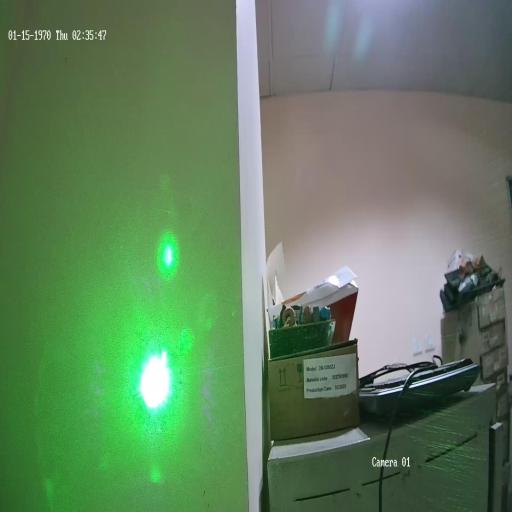laser: (134, 337, 176, 421)
